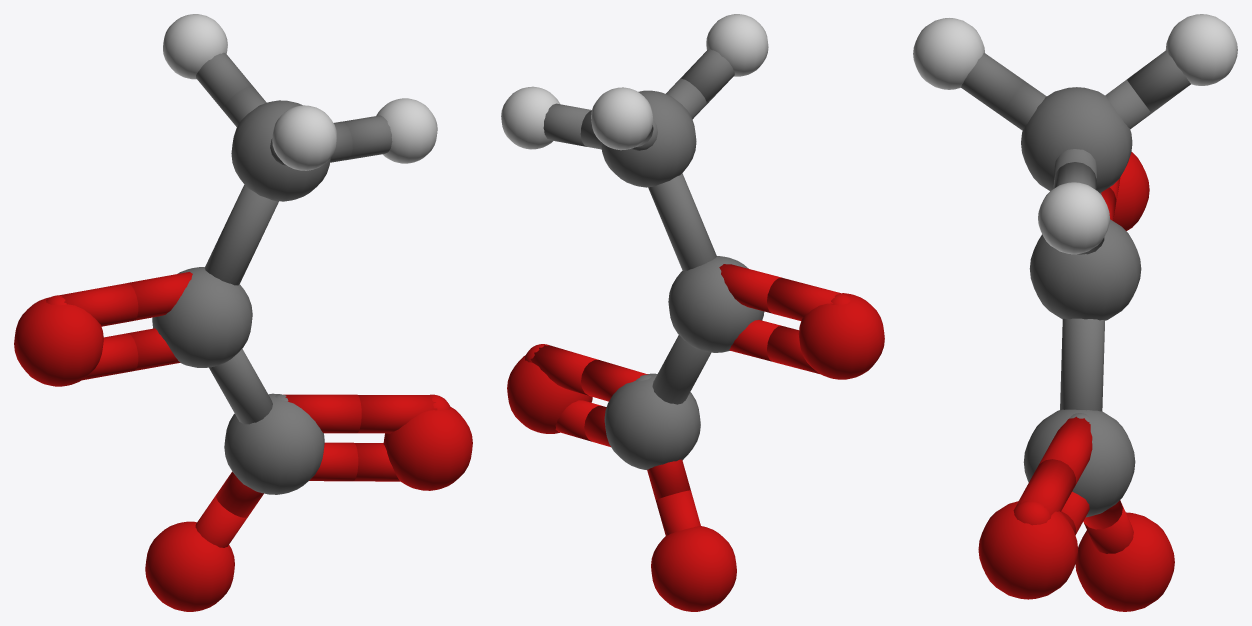
File: pyruvate.obj
3 renders of one model, left to right at view 1: azimuth 30°, elevation 25°; view 2: azimuth 150°, elevation 25°; view 3: azimuth 270°, elevation 25°, orthographic. The views are drawn at different scales.
Visible parts, largest first — view 1: ShapeSphere.005_ShapeSphere.002, ShapeSphere.004_ShapeSphere.002, ShapeSphere_ShapeSphere.001, ShapeSphere.001, ShapeSphere.002_ShapeSphere.001, ShapeSphere.003_ShapeSphere.002, ShapeCylinder.004_ShapeCylinder.002, ShapeSphere.006_ShapeSphere.003, ShapeSphere.007_ShapeSphere.003, ShapeSphere.008_ShapeSphere.003, ShapeCylinder, ShapeCylinder.006_ShapeCylinder.003 (+13 smaller); view 2: ShapeSphere.005_ShapeSphere.002, ShapeSphere.001, ShapeSphere.004_ShapeSphere.002, ShapeSphere_ShapeSphere.001, ShapeSphere.003_ShapeSphere.002, ShapeCylinder.004_ShapeCylinder.002, ShapeSphere.002_ShapeSphere.001, ShapeSphere.007_ShapeSphere.003, ShapeSphere.006_ShapeSphere.003, ShapeSphere.008_ShapeSphere.003, ShapeCylinder, ShapeCylinder.008_ShapeCylinder.004 (+12 smaller); view 3: ShapeSphere.003_ShapeSphere.002, ShapeSphere.004_ShapeSphere.002, ShapeSphere.002_ShapeSphere.001, ShapeSphere.001, ShapeSphere.005_ShapeSphere.002, ShapeSphere.008_ShapeSphere.003, ShapeCylinder, ShapeSphere.007_ShapeSphere.003, ShapeSphere.006_ShapeSphere.003, Shape.001_ShapeCylinder.001, Shape.002_ShapeCylinder.001, ShapeCylinder.006_ShapeCylinder.003 (+10 smaller).
Part boxes in pixels (box(x1,y1,x2,y2)): ShapeSphere.005_ShapeSphere.002: box(224, 393, 324, 494); ShapeSphere.004_ShapeSphere.002: box(152, 267, 252, 367); ShapeSphere_ShapeSphere.001: box(14, 297, 103, 386); ShapeSphere.001: box(145, 521, 234, 611); ShapeSphere.002_ShapeSphere.001: box(383, 407, 472, 490); ShapeSphere.003_ShapeSphere.002: box(231, 100, 330, 201); ShapeCylinder.004_ShapeCylinder.002: box(204, 185, 278, 285); ShapeSphere.006_ShapeSphere.003: box(272, 105, 337, 170); ShapeSphere.007_ShapeSphere.003: box(163, 14, 227, 79); ShapeSphere.008_ShapeSphere.003: box(376, 98, 437, 163); ShapeCylinder: box(209, 348, 272, 424); ShapeCylinder.006_ShapeCylinder.003: box(357, 395, 437, 433); ShapeSphere.005_ShapeSphere.002: box(604, 373, 700, 469); ShapeSphere.001: box(651, 526, 736, 611); ShapeSphere.004_ShapeSphere.002: box(668, 256, 764, 352); ShapeSphere_ShapeSphere.001: box(798, 293, 884, 379); ShapeSphere.003_ShapeSphere.002: box(600, 90, 696, 187); ShapeCylinder.004_ShapeCylinder.002: box(648, 173, 716, 270); ShapeSphere.002_ShapeSphere.001: box(507, 355, 592, 433); ShapeSphere.007_ShapeSphere.003: box(591, 87, 653, 150); ShapeSphere.006_ShapeSphere.003: box(706, 14, 768, 76); ShapeSphere.008_ShapeSphere.003: box(501, 86, 559, 149); ShapeCylinder: box(652, 335, 710, 404); ShapeCylinder.008_ShapeCylinder.004: box(767, 277, 841, 320); ShapeSphere.003_ShapeSphere.002: box(1021, 87, 1132, 192); ShapeSphere.004_ShapeSphere.002: box(1029, 219, 1141, 320); ShapeSphere.002_ShapeSphere.001: box(978, 501, 1078, 599); ShapeSphere.001: box(1075, 512, 1174, 611); ShapeSphere.005_ShapeSphere.002: box(1023, 409, 1135, 517); ShapeSphere.008_ShapeSphere.003: box(1038, 182, 1109, 254); ShapeCylinder: box(1060, 318, 1104, 411); ShapeSphere.007_ShapeSphere.003: box(1165, 14, 1237, 85); ShapeSphere.006_ShapeSphere.003: box(913, 18, 984, 89); Shape.001_ShapeCylinder.001: box(1127, 50, 1190, 112); Shape.002_ShapeCylinder.001: box(960, 53, 1024, 114); ShapeCylinder.006_ShapeCylinder.003: box(1015, 459, 1075, 515).
Size of the model in its own units: 3.7 by 4.73 by 2.28.
